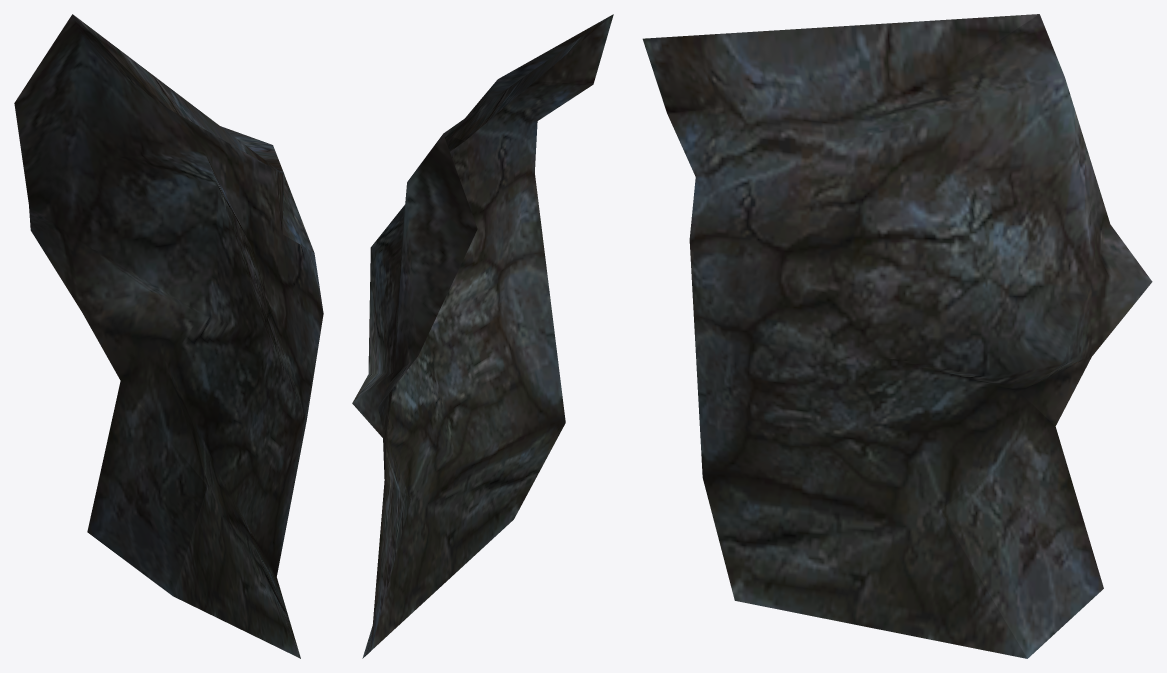
The model's file is S_Rock_Yellow034_23.FBX.
3 views of the same model, side by side, from view 1: azimuth 30°, elevation 25°; view 2: azimuth 150°, elevation 25°; view 3: azimuth 270°, elevation 25° (orthographic). The views are drawn at different scales.
Visible parts, largest first — view 1: S_Rock_Yellow034_23; view 2: S_Rock_Yellow034_23; view 3: S_Rock_Yellow034_23.
Boxes of the visible parts, <box> form: S_Rock_Yellow034_23: <box>14,14,323,658</box>; S_Rock_Yellow034_23: <box>352,14,613,658</box>; S_Rock_Yellow034_23: <box>642,14,1152,658</box>.
Size of the model in its own units: 68.71 by 190 by 247.
